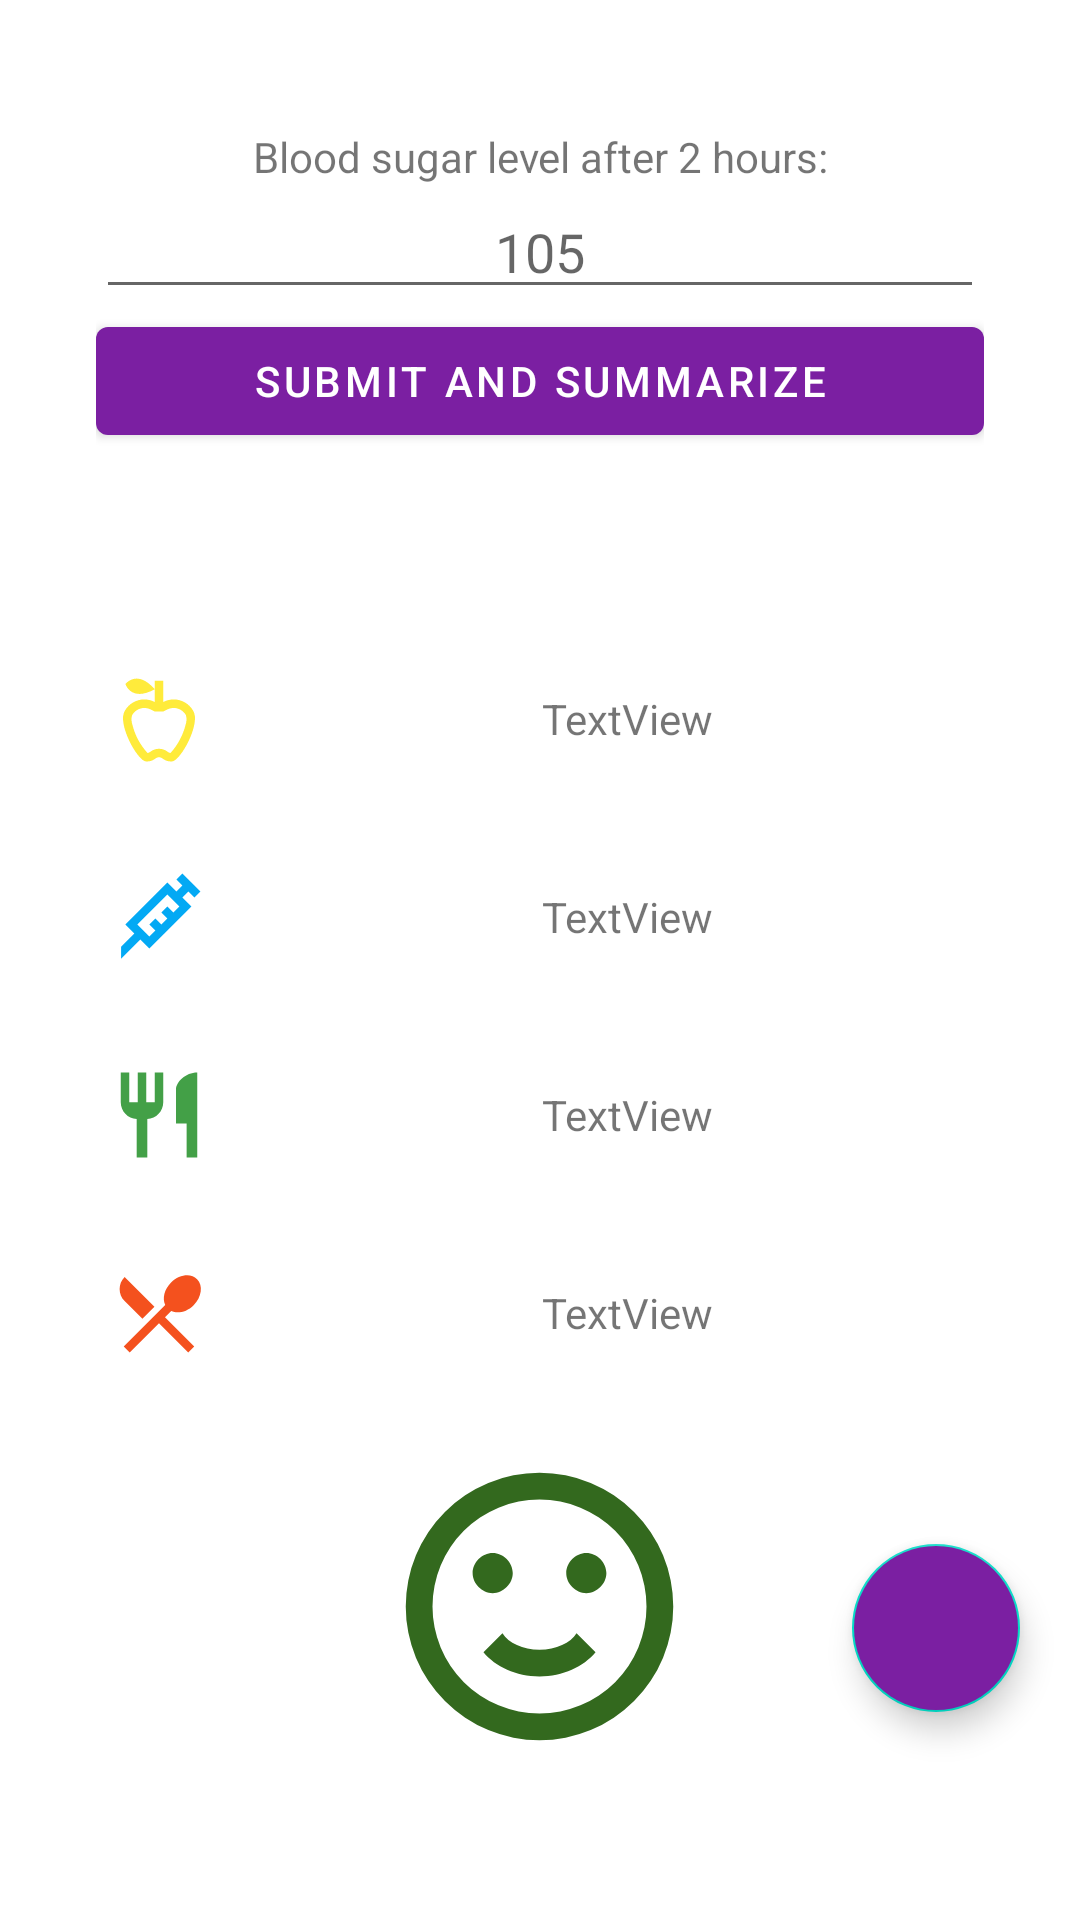

Icons on this 1080px×1920px Android screen, each with the point to tap as point (x, y):
after meal: point (160, 1314)
before meal: point (159, 1115)
carbohydrates summary: point (159, 720)
happy face: point (539, 1606)
insulin: point (161, 916)
